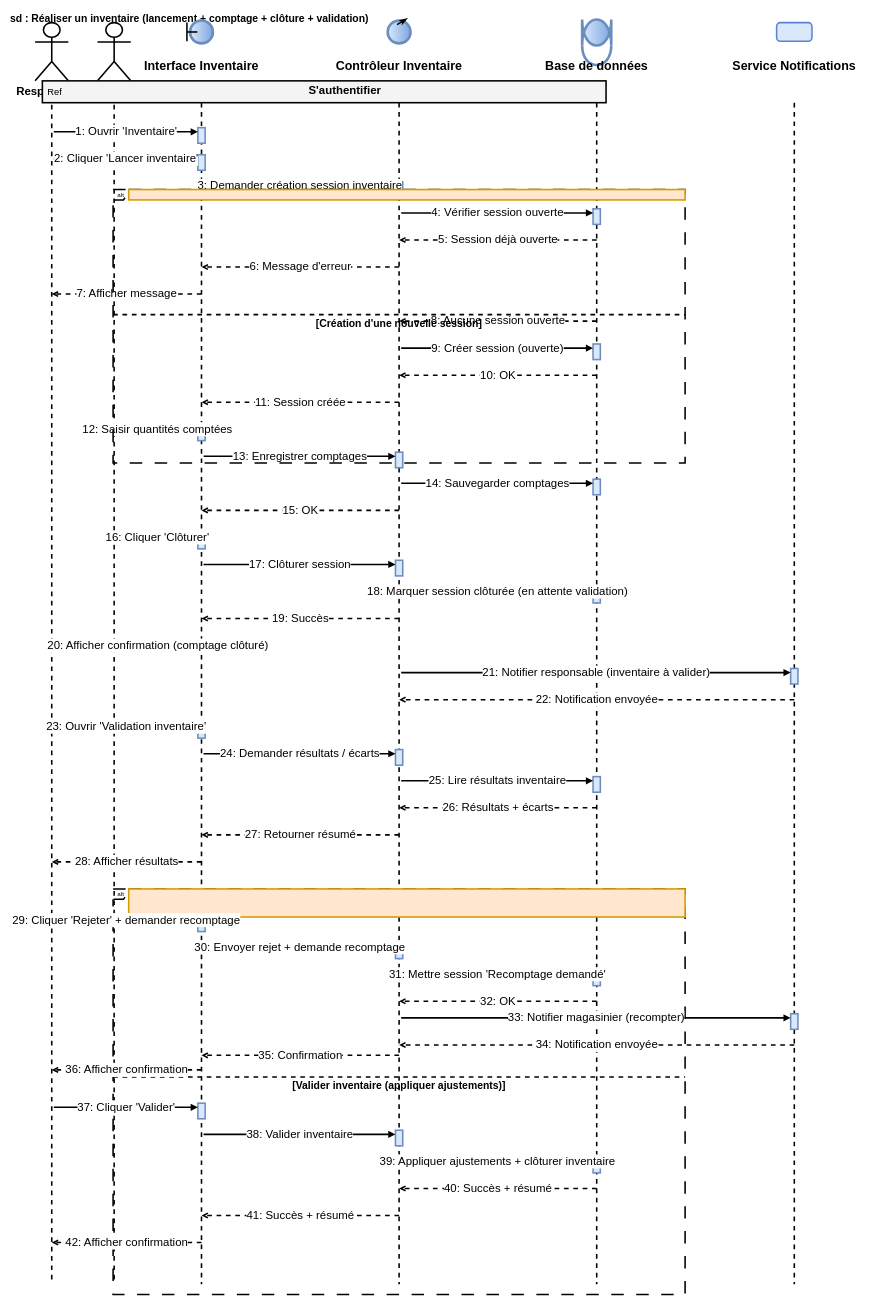
Some shapes in this 881 by 1304 pixel diagram are drawn without their labels. Each missing label, with the centre of its shape:
"[Rejeter + demander recomptage]" goes at point 407,903.
"[Session déjà ouverte]" goes at point 407,194.
